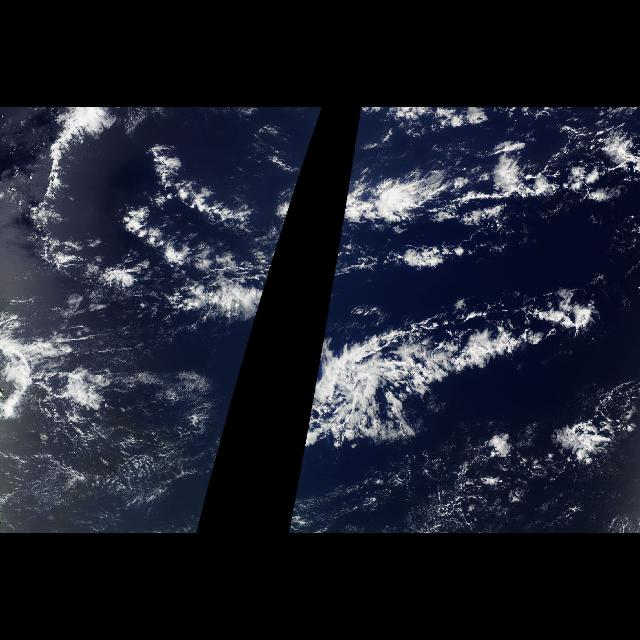Fish: (304, 288, 600, 456), (340, 157, 548, 240), (288, 158, 308, 216)
